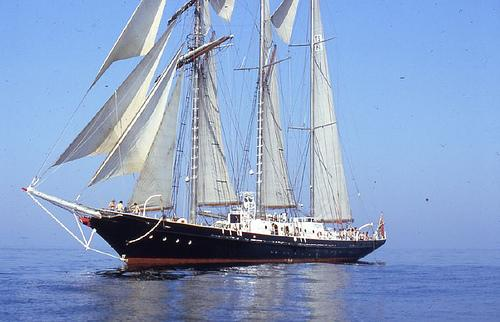Ship: (24, 2, 388, 266)
